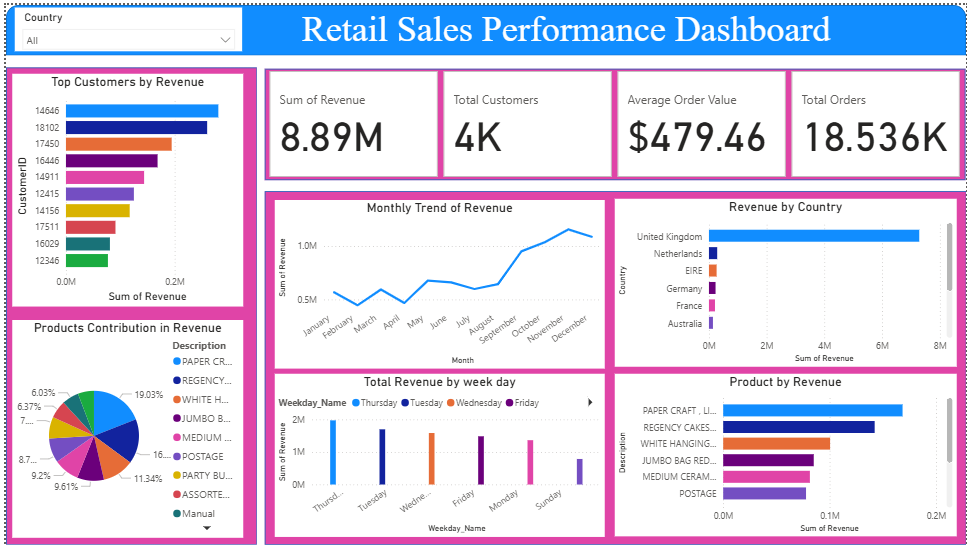

The dashboard page shown, as its layout file describes it:
{"tool":"powerbi","page":{"name":"Basic KPIs","canvas":[1280,720],"ordinal":0},"visuals":[{"type":"shape","box":[0,83.7,334.8,636.4],"z":0},{"type":"shape","box":[344.3,248.6,935.7,471.4],"z":1000},{"type":"shape","box":[0,0,1280.3,67.2],"z":2000},{"type":"textbox","box":[358.6,0,777.1,67.1],"z":3000},{"type":"shape","box":[345.7,85.7,934.3,148.6],"z":4000},{"type":"cardVisual","fields":{"Data":["Sum(online_retail.Revenue)","Count(online_retail.CustomerID)","online_retail.Average_order_value","CountNonNull(online_retail.InvoiceNo)"]},"box":[347.1,82.9,932.9,151.4],"z":5000},{"type":"slicer","title":"Monthly Sales Trend","fields":{"Values":["online_retail.Country"]},"box":[11.7,3.3,303.3,58.3],"z":6000},{"type":"barChart","title":"Revenue by Country","fields":{"Category":["online_retail.Country"],"Y":["Sum(online_retail.Revenue)"],"Series":["online_retail.Country"]},"box":[811.4,258.6,455.7,224.3],"z":7000},{"type":"clusteredColumnChart","title":"Total Revenue by week day","fields":{"Category":["online_retail.WeekDay"],"Y":["Sum(online_retail.Revenue)"],"Series":["online_retail.WeekDay"]},"box":[358.3,491.6,440.2,217.7],"z":8000},{"type":"barChart","title":"Product by Revenue","fields":{"Category":["online_retail.Description"],"Y":["Sum(online_retail.Revenue)"],"Series":["online_retail.Description"]},"box":[811.4,491.4,455.7,217.1],"z":9000},{"type":"lineChart","title":"Monthly Trend of Revenue","fields":{"Category":["online_retail.InvoiceDate.Variation.Date Hierarchy.Month"],"Y":["Sum(online_retail.Revenue)"]},"box":[358.3,259.2,440.2,225],"z":10000},{"type":"pieChart","title":"Products Contribution in Revenue","fields":{"Y":["Sum(online_retail.Revenue)"],"Category":["online_retail.Description"]},"box":[8.3,420,308.3,290],"z":11000},{"type":"barChart","title":"Top Customers by Revenue","fields":{"Category":["online_retail.CustomerID"],"Y":["Sum(online_retail.Revenue)"],"Series":["online_retail.CustomerID"]},"box":[8.3,91.7,308.3,310],"z":11001}]}

Visuals, with their boxes in screenshot pixels (x1, y1, x2, y2), scaled from the page's 1280x720 canvas onto the 967x545 screenshot:
shape: <box>0,63,253,544</box>
shape: <box>260,188,966,544</box>
shape: <box>0,0,966,51</box>
textbox: <box>271,0,858,51</box>
shape: <box>261,65,966,177</box>
cardVisual - Sum(online_retail.Revenue) x Count(online_retail.CustomerID): <box>262,63,966,177</box>
"Monthly Sales Trend" slicer: <box>9,2,238,47</box>
"Revenue by Country" barChart: <box>613,196,957,366</box>
"Total Revenue by week day" clusteredColumnChart: <box>271,372,603,537</box>
"Product by Revenue" barChart: <box>613,372,957,536</box>
"Monthly Trend of Revenue" lineChart: <box>271,196,603,367</box>
"Products Contribution in Revenue" pieChart: <box>6,318,239,537</box>
"Top Customers by Revenue" barChart: <box>6,69,239,304</box>
